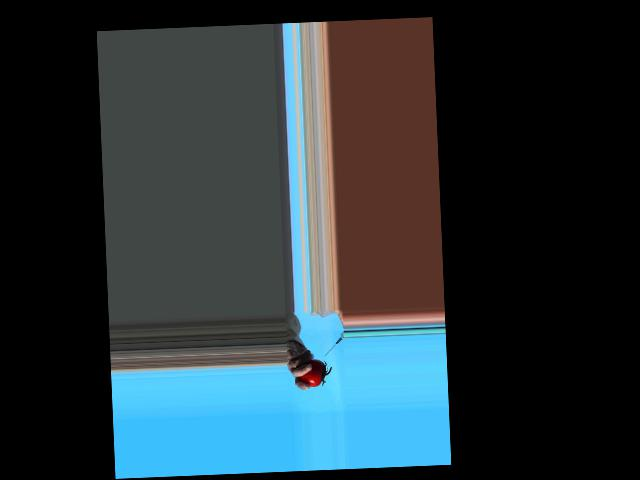tomato: (298, 359, 326, 388)
